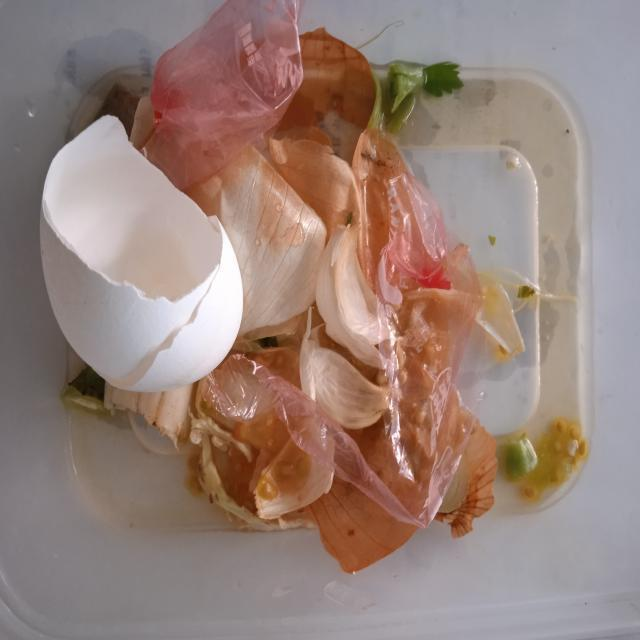egg shell: (38, 112, 245, 396)
